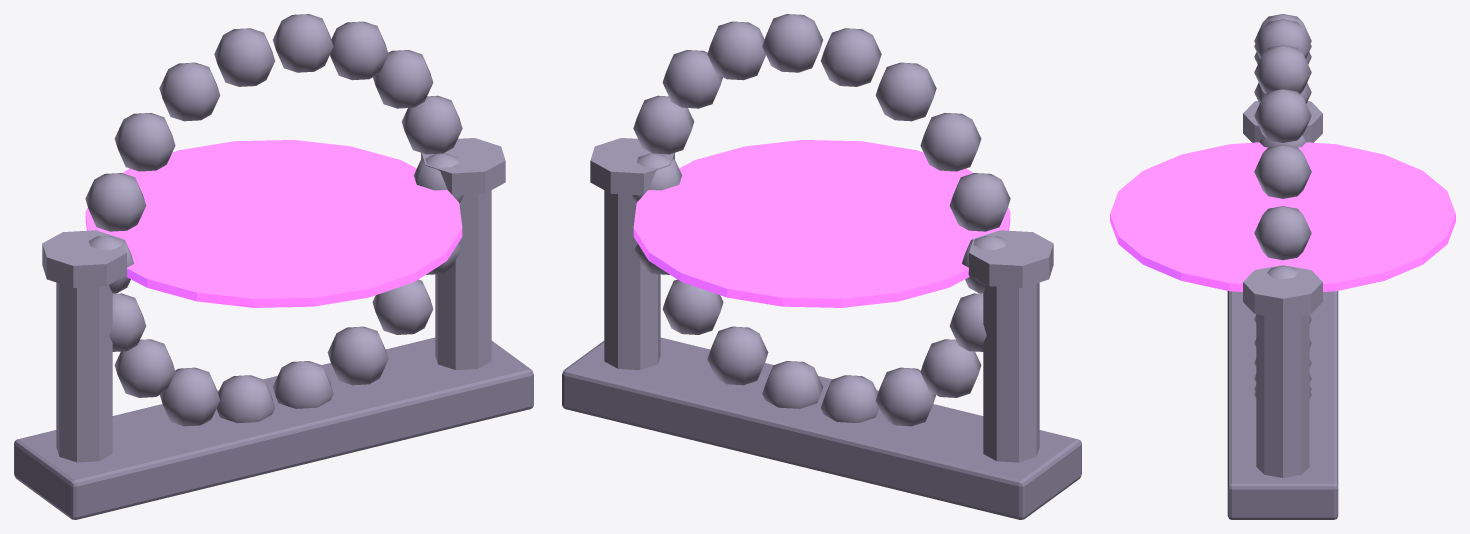
The model's file is portal.glb.
The picture shows the model from 3 angles, left to right: view 1: azimuth 30°, elevation 25°; view 2: azimuth 150°, elevation 25°; view 3: azimuth 270°, elevation 25°; orthographic projection. The views are drawn at different scales.
Visible parts, largest first — view 1: Cylinder, Cube, Cylinder.001, Cylinder.003, Cylinder.002, Cylinder.004, Sphere.005, Sphere.007, Sphere.015, Sphere.006, Sphere.008, Sphere.004 (+11 smaller); view 2: Cylinder, Cube, Cylinder.001, Cylinder.003, Cylinder.002, Cylinder.004, Sphere.005, Sphere.007, Sphere.015, Sphere.006, Sphere.008, Sphere.004 (+11 smaller); view 3: Cylinder, Cube, Cylinder.003, Cylinder.004, Sphere.002, Sphere.003, Sphere.001, Sphere.004, Sphere.005, Cylinder.002.
Part boxes in pixels (x1,y1,x2,y2): Cylinder: (85,140,462,307); Cube: (14,337,533,519); Cylinder.001: (56,282,112,462); Cylinder.003: (435,190,491,369); Cylinder.002: (42,230,126,287); Cylinder.004: (421,138,505,195); Sphere.005: (214,28,274,86); Sphere.007: (114,113,175,171); Sphere.015: (327,326,388,385); Sphere.006: (159,62,220,121); Sphere.008: (85,173,146,231); Sphere.004: (273,14,333,72); Cylinder: (633,140,1010,307); Cube: (562,337,1081,519); Cylinder.001: (983,282,1039,462); Cylinder.003: (604,190,660,369); Cylinder.002: (969,230,1053,287); Cylinder.004: (590,138,674,195); Sphere.005: (821,28,881,86); Sphere.007: (920,113,981,171); Sphere.015: (707,326,768,385); Sphere.006: (875,62,936,121); Sphere.008: (949,173,1010,231); Sphere.004: (762,14,822,72); Cylinder: (1110,142,1455,291); Cube: (1227,291,1338,519); Cylinder.003: (1256,314,1309,477); Cylinder.004: (1243,265,1322,318); Sphere.002: (1254,145,1311,198); Sphere.003: (1254,89,1311,142); Sphere.001: (1254,206,1311,260); Sphere.004: (1254,45,1311,93); Sphere.005: (1254,19,1311,58); Cylinder.002: (1243,101,1322,142).
Bounding box in the file's own units: 2.2 × 1.92 × 1.56.
